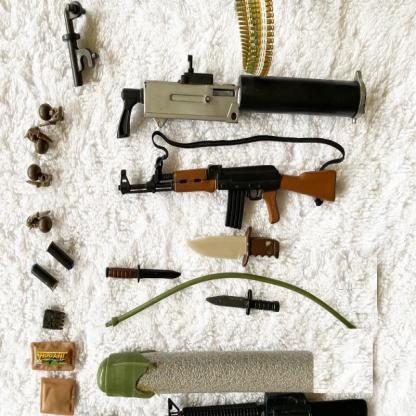Grenade: (23, 125, 54, 156), (25, 206, 55, 235), (37, 100, 66, 130), (24, 161, 53, 188)
Gun: (117, 155, 336, 230), (167, 390, 369, 416)
Knife: (186, 226, 281, 268), (206, 288, 281, 317), (106, 266, 181, 282)
Pistol: (113, 49, 372, 138)
